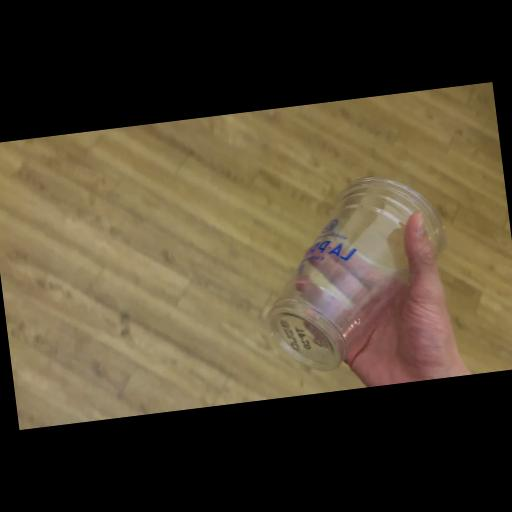lp_plastic_cup: (147, 163, 479, 412)
